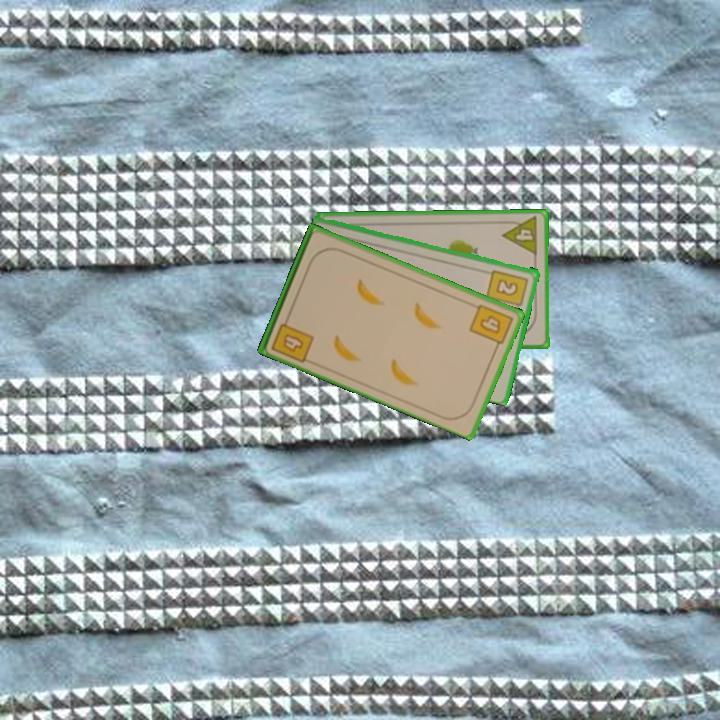2b: (484, 266, 531, 315)
4b: (267, 311, 317, 365), (466, 300, 516, 353)
4p: (499, 213, 541, 258)
